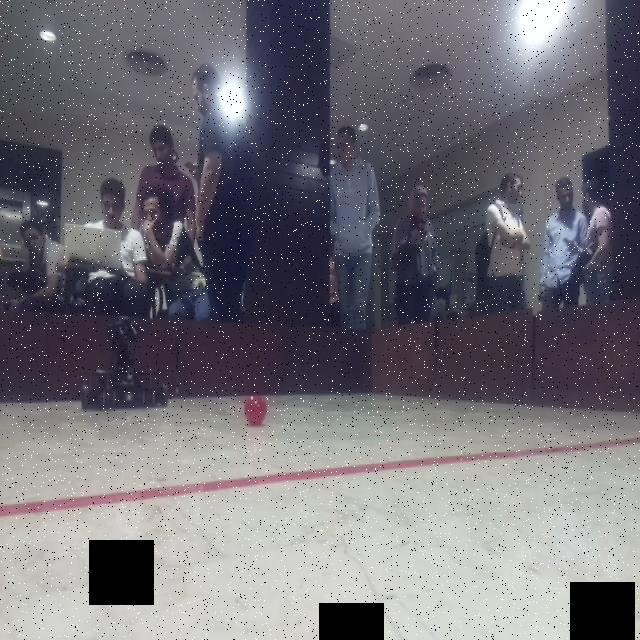ball: (242, 390, 272, 430)
